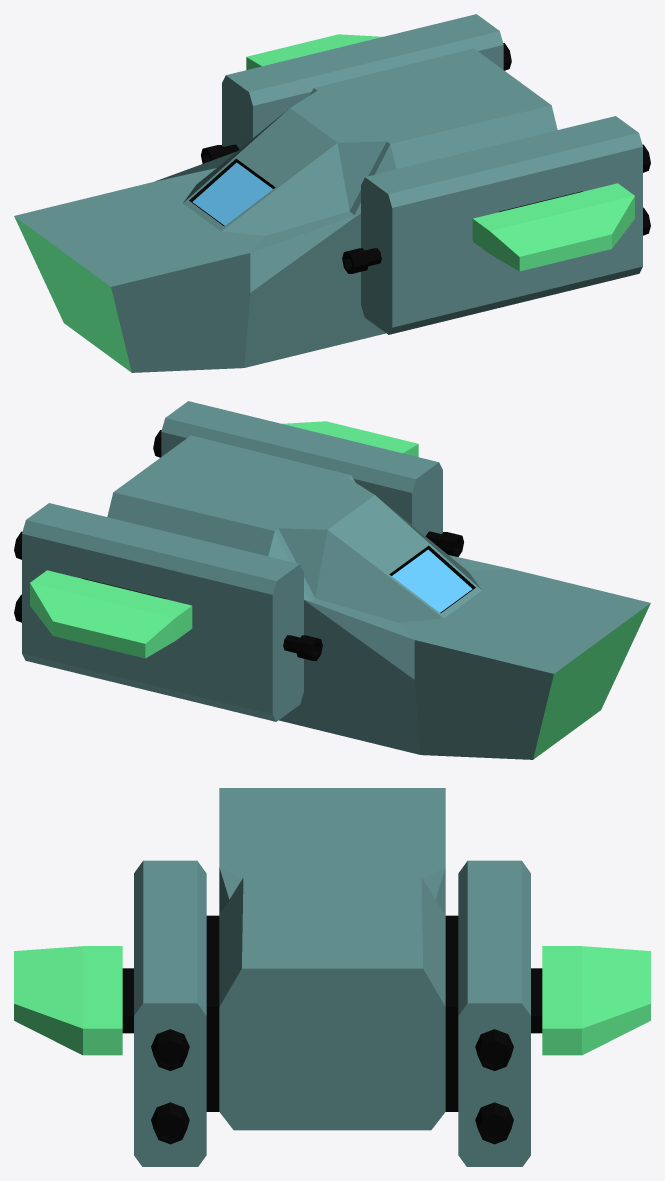
Rendered from gunship1.fbx.
3 renders of one model, top to bottom at view 1: azimuth 30°, elevation 25°; view 2: azimuth 150°, elevation 25°; view 3: azimuth 270°, elevation 25°, orthographic. The views are drawn at different scales.
Parts seen in each view (by area): view 1: Gunship; view 2: Gunship; view 3: Gunship.
Part boxes in pixels (bbox=[...]): Gunship: bbox=[14, 14, 650, 372]; Gunship: bbox=[14, 401, 650, 759]; Gunship: bbox=[14, 788, 650, 1166].
Bounding box in the file's own units: 581 × 200 × 537.
